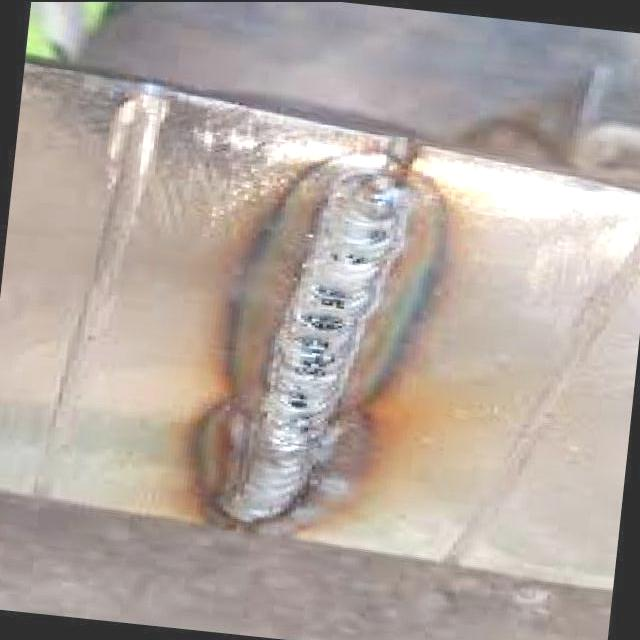defect: (286, 328, 344, 380), (298, 309, 352, 335), (308, 281, 350, 312), (277, 387, 314, 410), (330, 248, 371, 268)
